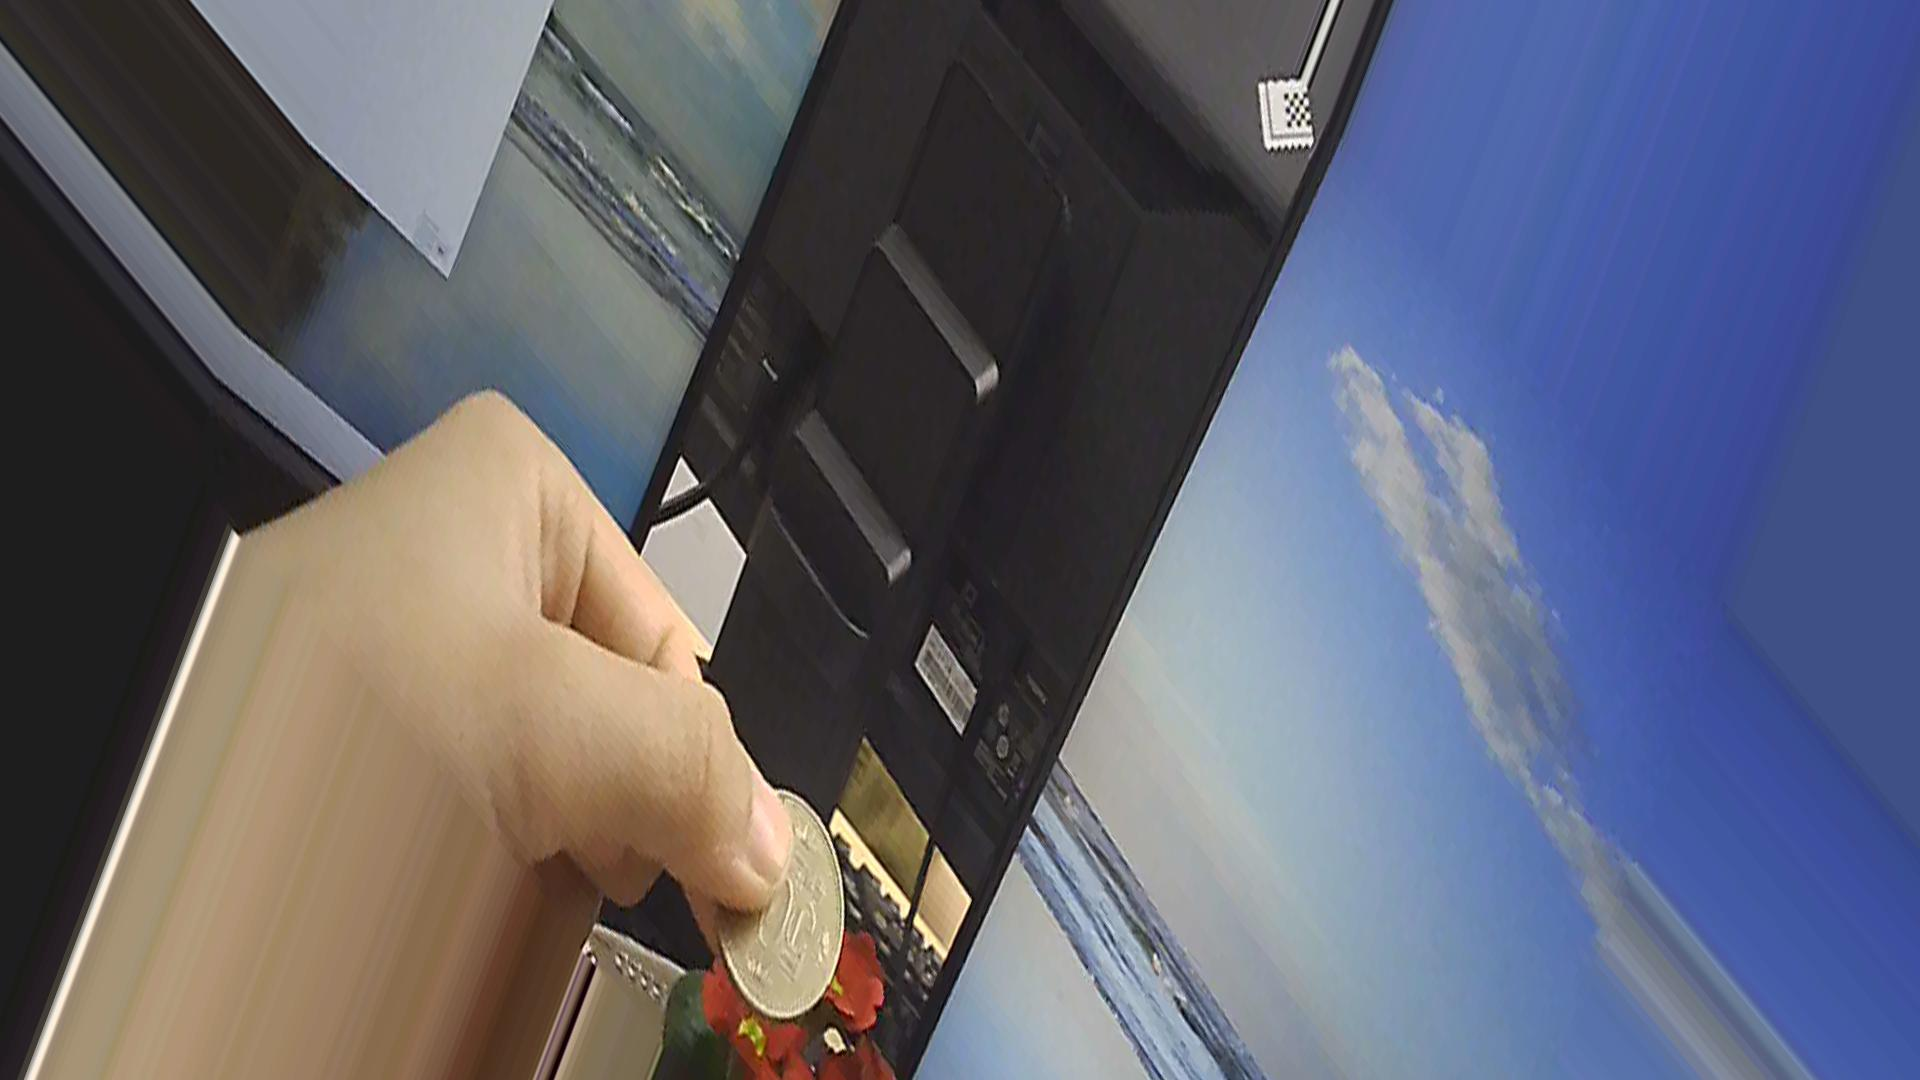500 Yen: (715, 775, 851, 1038)
